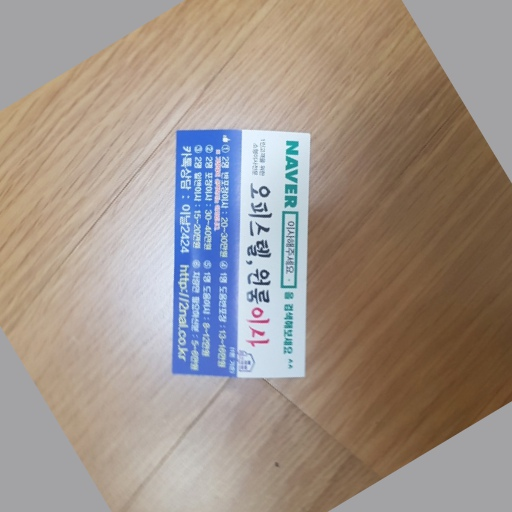Paper_2: (166, 120, 328, 386)
